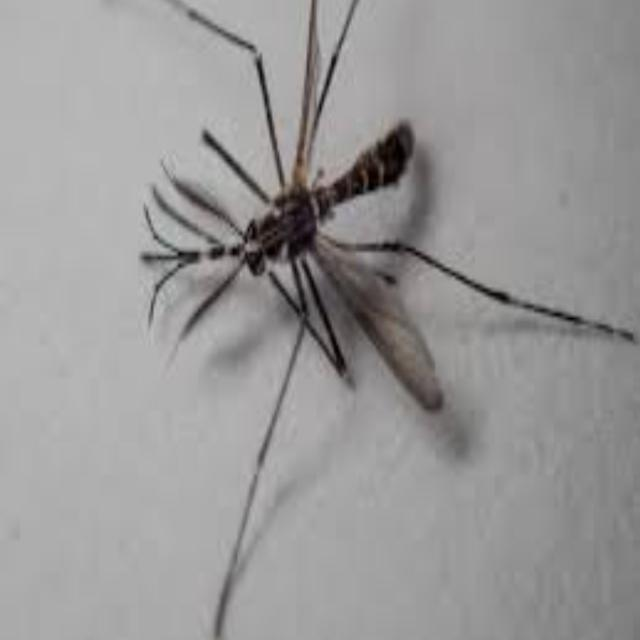aegypti: (136, 4, 473, 501)
